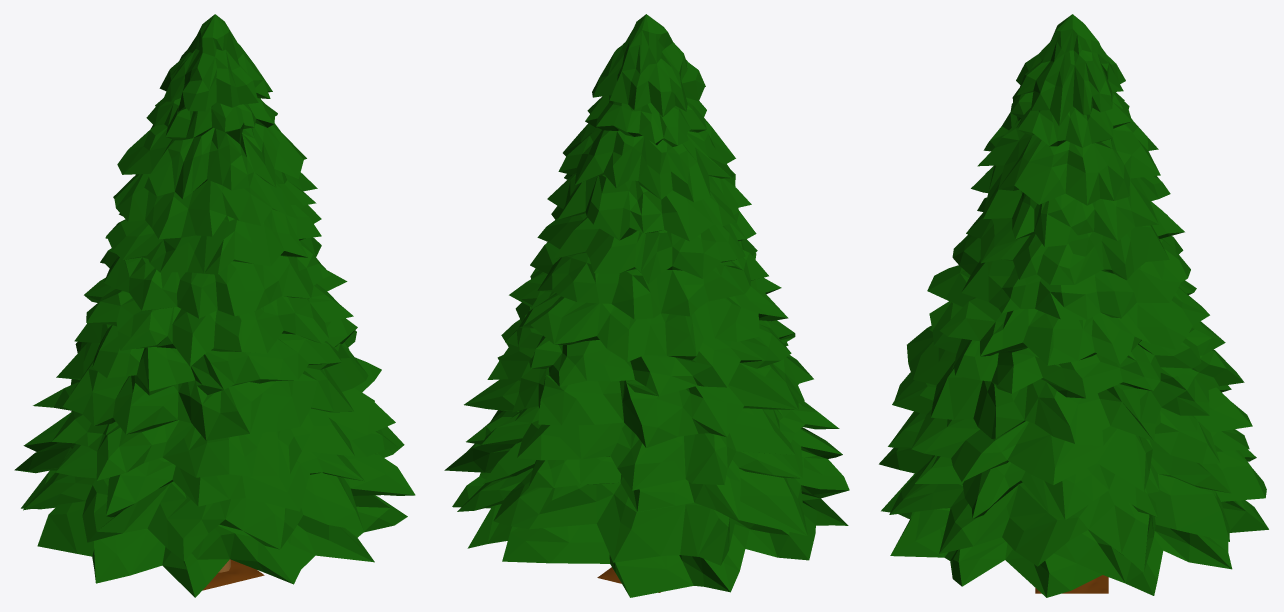
The model's file is pine-tree.glb.
The picture shows the model from 3 angles, left to right: view 1: azimuth 30°, elevation 25°; view 2: azimuth 150°, elevation 25°; view 3: azimuth 270°, elevation 25°; orthographic projection.
Visible parts, largest first — view 1: 5_nft_summer; view 2: 5_nft_summer; view 3: 5_nft_summer.
Part boxes in pixels (left/top/right/bottom): 5_nft_summer: left=14, top=14, right=415, bottom=597; 5_nft_summer: left=444, top=14, right=849, bottom=597; 5_nft_summer: left=879, top=14, right=1268, bottom=597.
Size of the model in its own units: 7.82 by 11.91 by 7.48.
